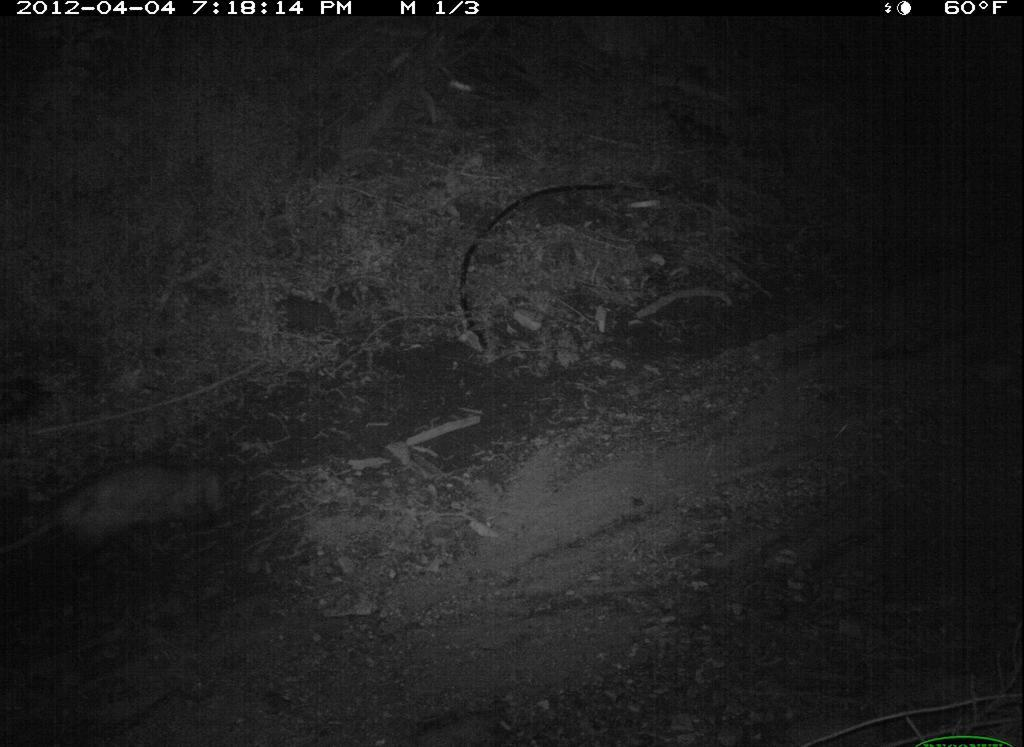opossum: (3, 452, 241, 570)
